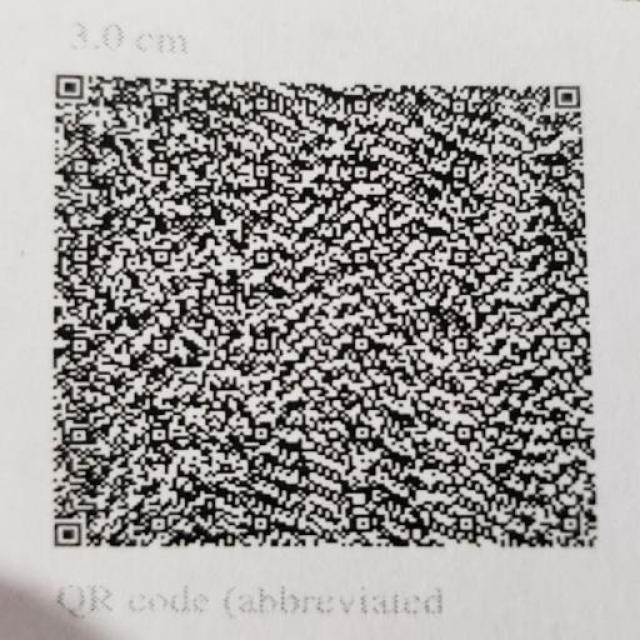QR_CODE: (34, 41, 614, 568)
